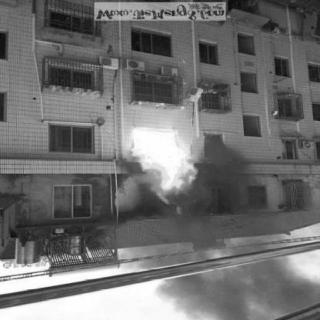Fire: (128, 123, 194, 195)
Smoke: (152, 241, 306, 315)
